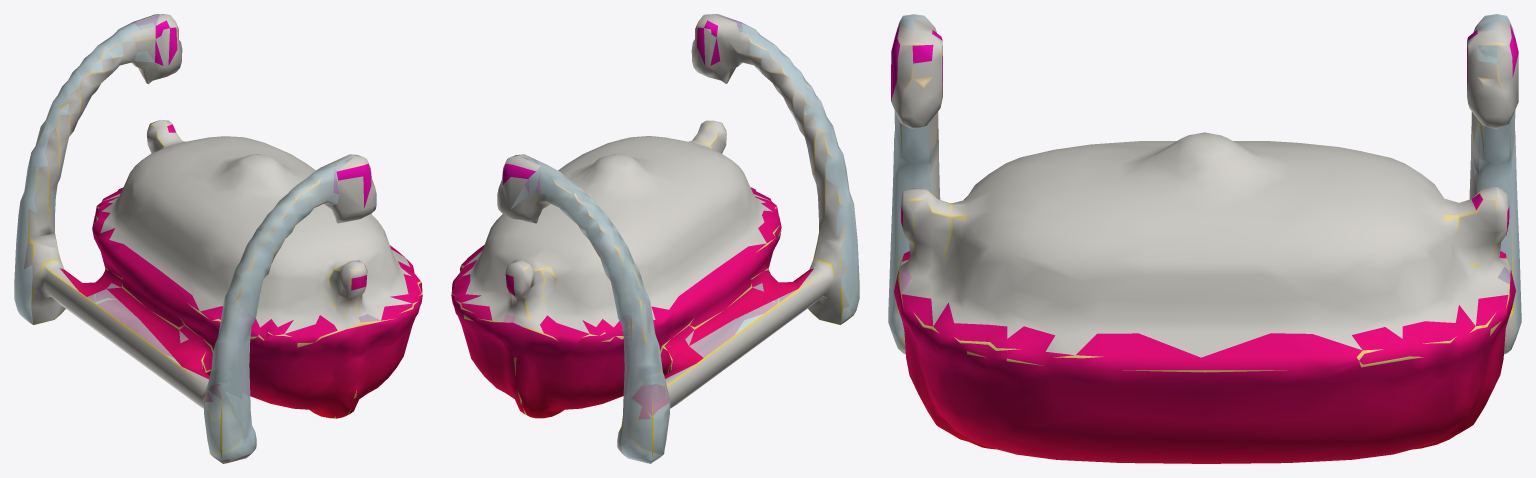
Rendered from cs_lifeboat_davits.glb.
3 renders of one model, left to right at view 1: azimuth 30°, elevation 25°; view 2: azimuth 150°, elevation 25°; view 3: azimuth 270°, elevation 25°, orthographic. The views are drawn at different scales.
Parts seen in each view (by area): view 1: cs_lifeboat_davits; view 2: cs_lifeboat_davits; view 3: cs_lifeboat_davits.
Boxes of the visible parts, bbox=[...] form: cs_lifeboat_davits: bbox=[14, 14, 422, 463]; cs_lifeboat_davits: bbox=[451, 14, 859, 463]; cs_lifeboat_davits: bbox=[888, 14, 1521, 463].
Size of the model in its own units: 2.34 by 2.48 by 3.38.
